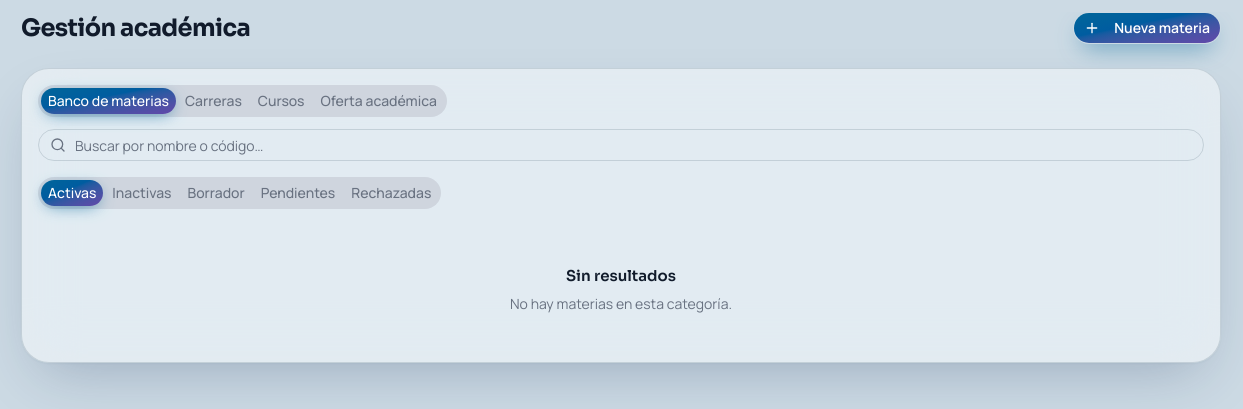
AdministrativoSubjects › lists rejected subjects in their own tab so they can be fixed and resubmitted
The width and height of the screenshot is (1243, 409).
Click the tab "Rechazadas" at (391, 193), box 344,180 -> 438,206
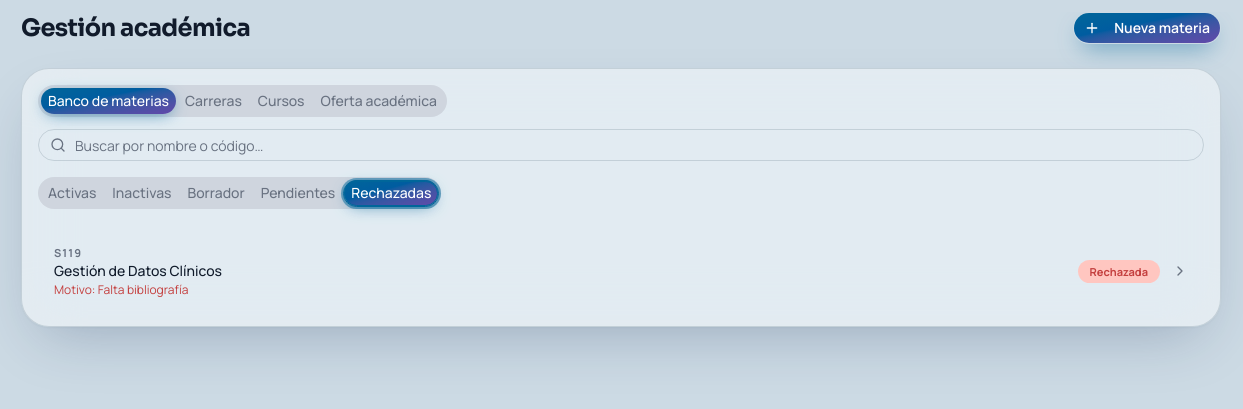
Expected: the text "Gestión de Datos Clínicos" is shown, 54,261 -> 222,281
Expected: the text "Rechazada" is shown, 1078,260 -> 1160,283
